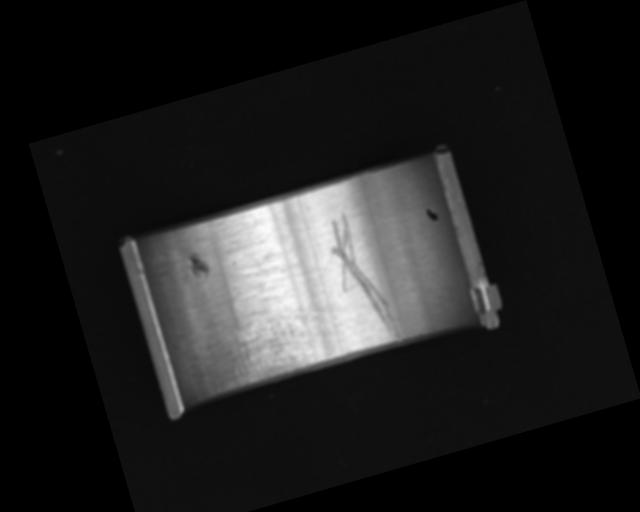blot: (423, 204, 440, 224)
bruise: (184, 249, 211, 281)
nick: (321, 205, 404, 353)
scratch: (213, 295, 347, 390)
